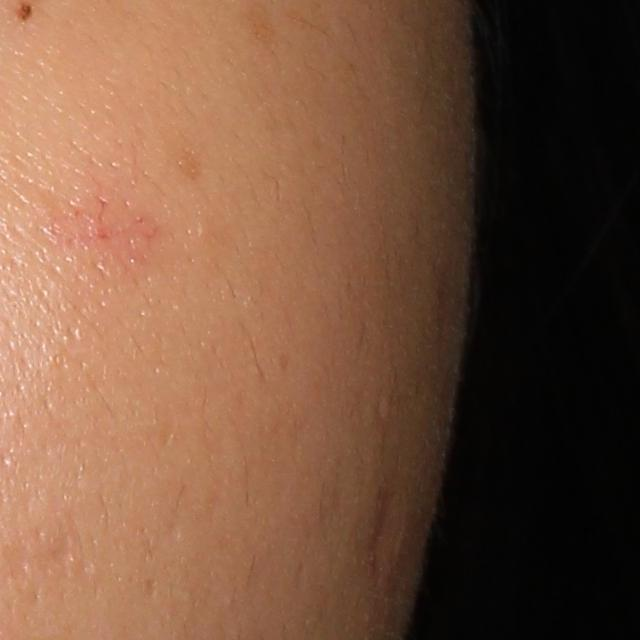atrophic_scar: (368, 483, 402, 591)
melasma: (1, 523, 80, 611), (168, 144, 208, 184)
